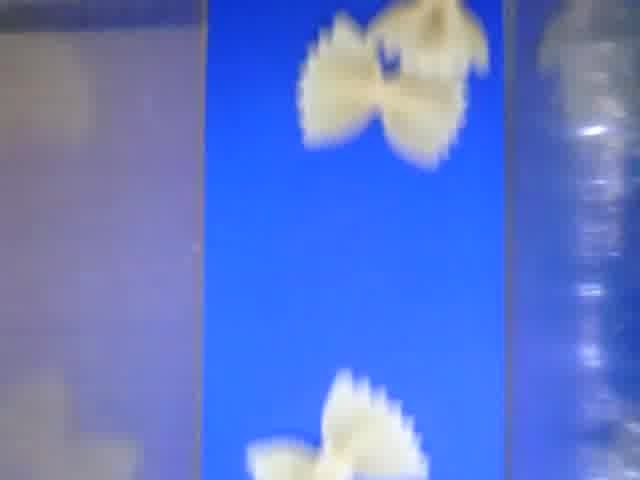farfalle: (296, 39, 464, 172), (246, 369, 428, 480), (362, 1, 492, 77)
